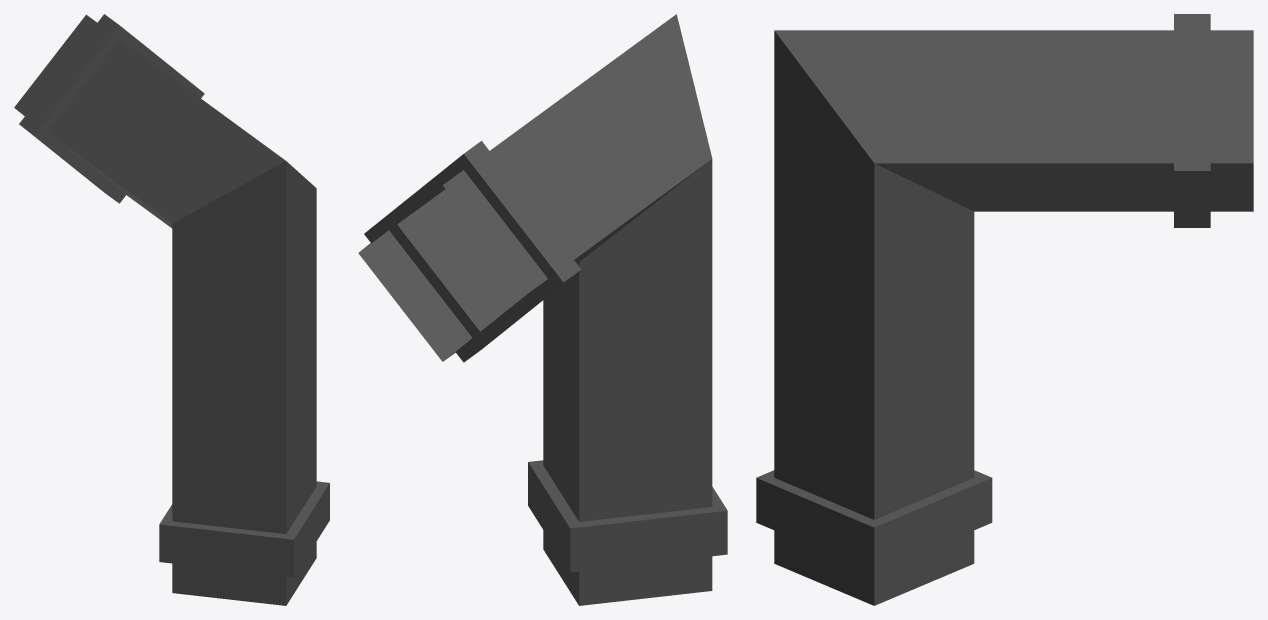
Rendered from pipe_A_turn.FBX.
3 renders of one model, left to right at view 1: azimuth 30°, elevation 25°; view 2: azimuth 150°, elevation 25°; view 3: azimuth 270°, elevation 25°, orthographic. The views are drawn at different scales.
Visible parts, largest first — view 1: pipe_A_turn; view 2: pipe_A_turn; view 3: pipe_A_turn.
Part boxes in pixels (box(x1,y1,x2,y2)): pipe_A_turn: box(14, 14, 329, 605); pipe_A_turn: box(358, 14, 727, 605); pipe_A_turn: box(756, 14, 1253, 605).
Bounding box in the file's own units: 12.1 × 31.07 × 25.49.
